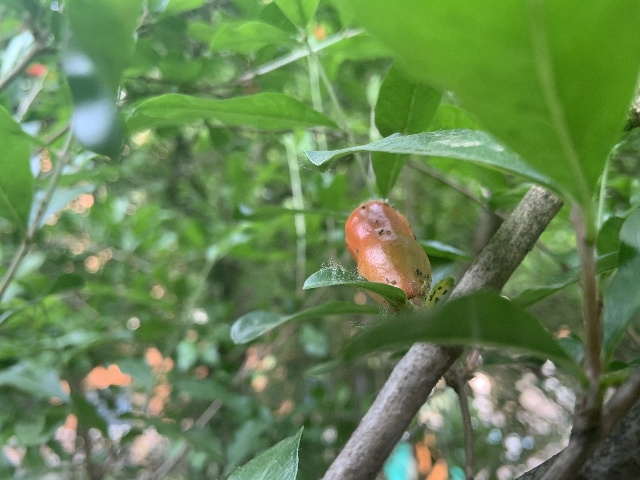bud: (344, 200, 430, 301)
